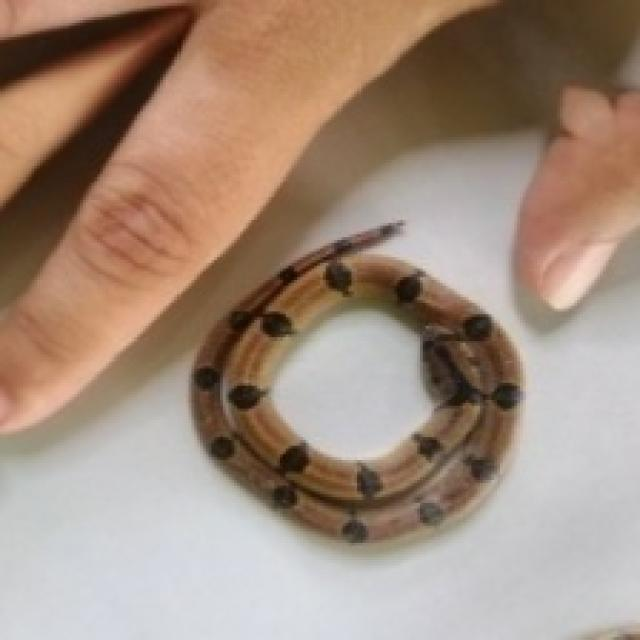northern short-headed snake: (191, 220, 520, 540)
